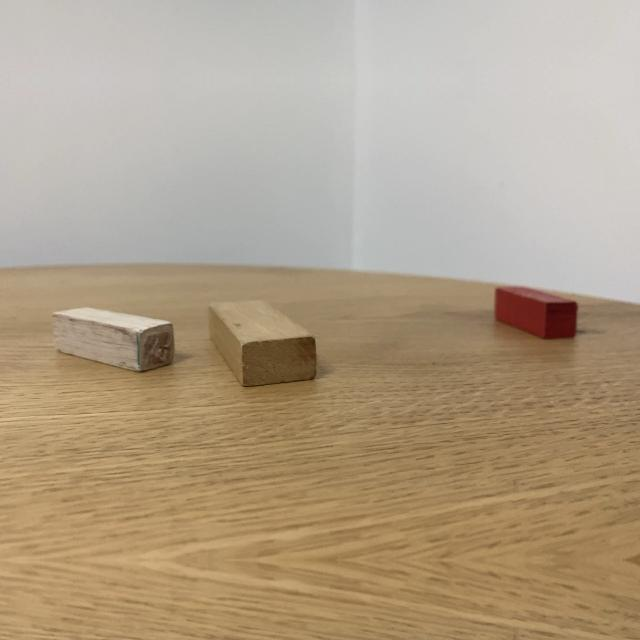block: (52, 306, 175, 372)
jenga: (210, 299, 317, 387)
red block: (494, 285, 577, 340)
